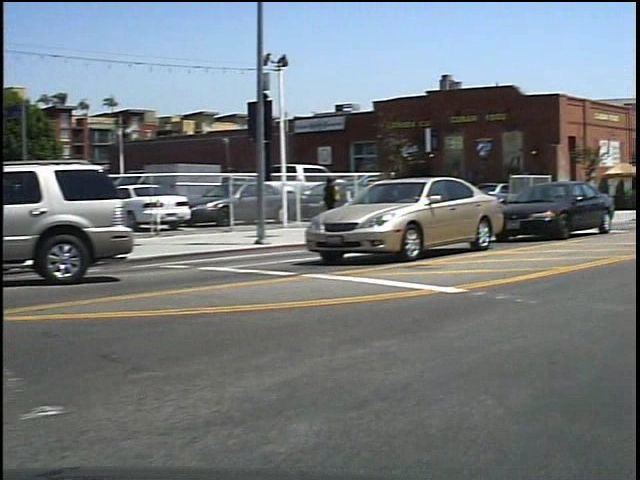person: (329, 170, 354, 231)
